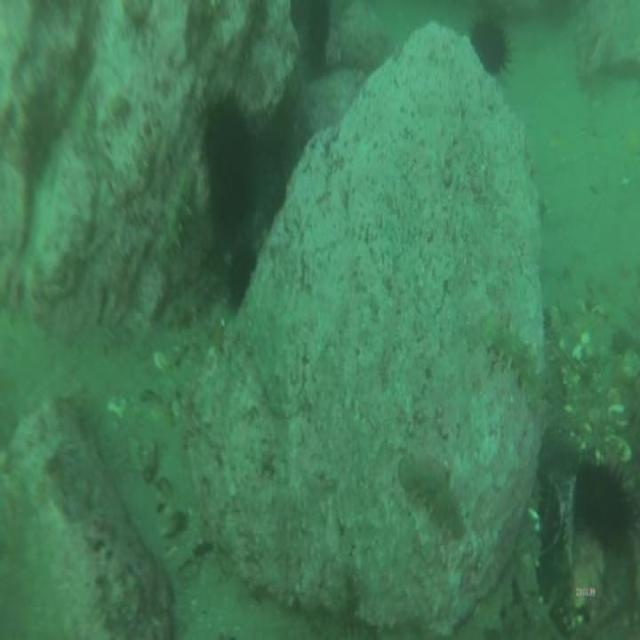echinus: (208, 106, 252, 220), (579, 460, 631, 539), (472, 19, 508, 76), (232, 251, 257, 297)
holothurian: (400, 452, 465, 537), (486, 312, 543, 404), (163, 172, 193, 252)
